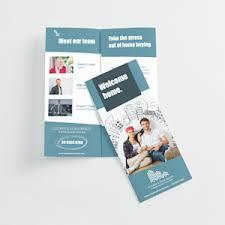paper: (44, 28, 192, 202)
